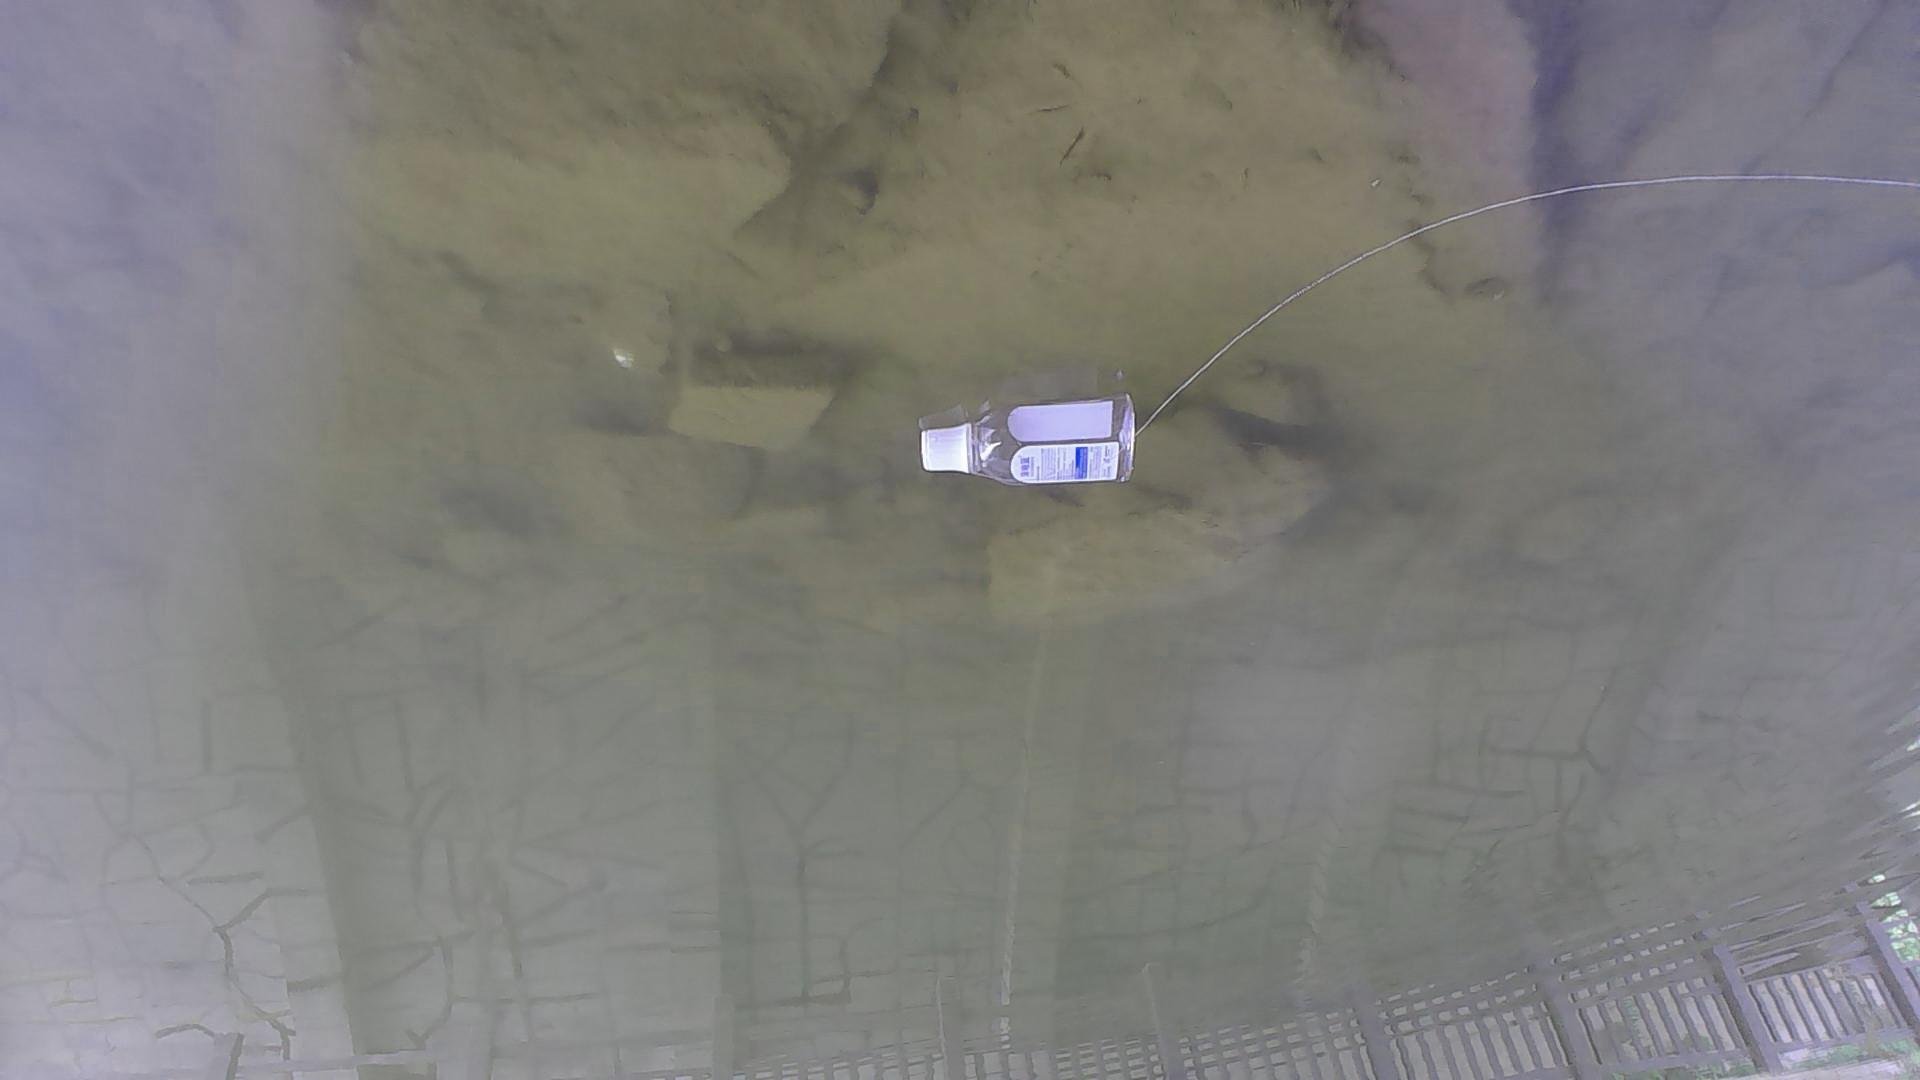Plastic: (919, 385, 1139, 498)
